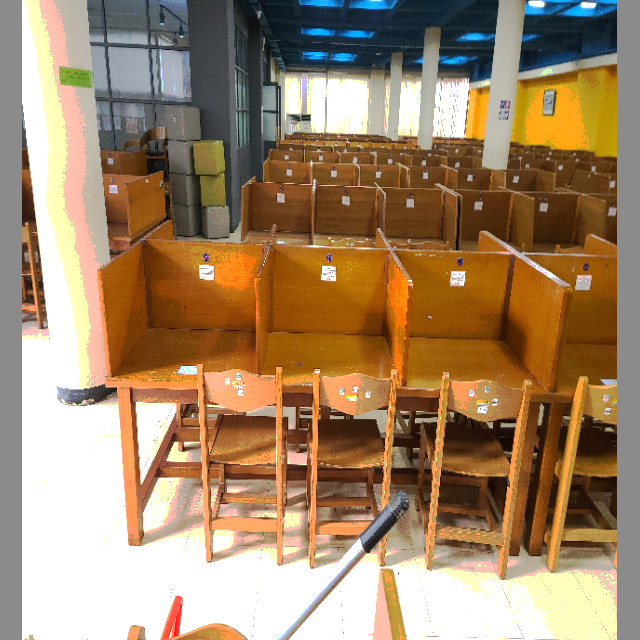empty: (259, 234, 414, 463), (105, 233, 257, 461), (414, 232, 558, 467)
